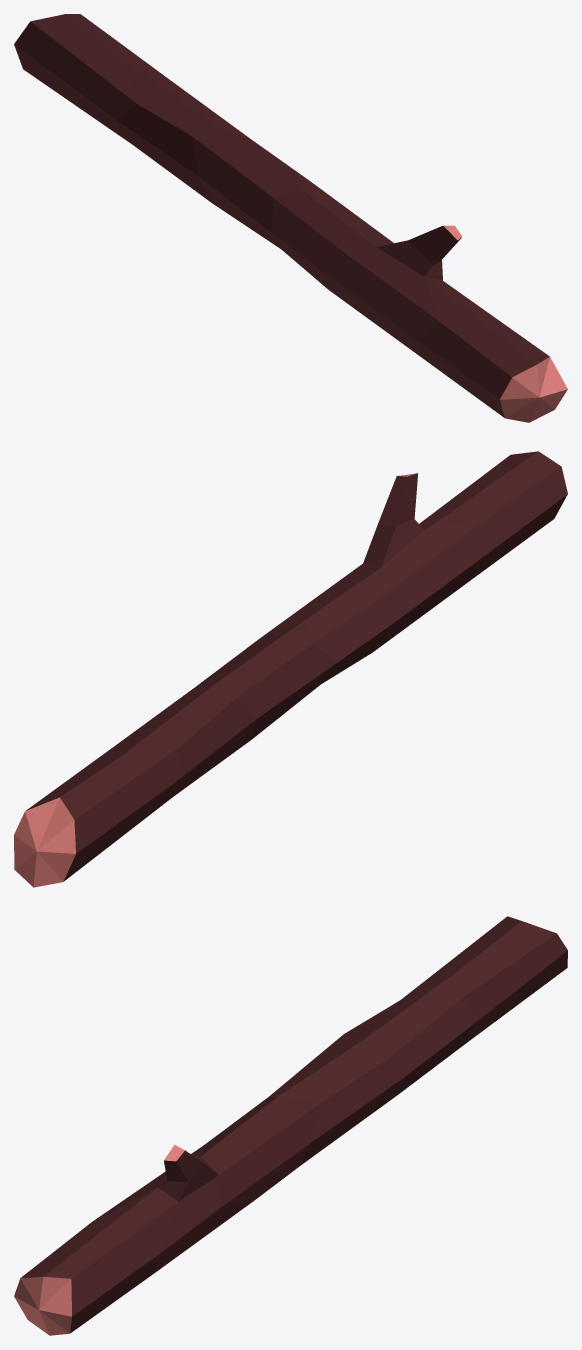
File: stick.glb
The picture shows the model from 3 angles, top to bottom: view 1: azimuth 30°, elevation 25°; view 2: azimuth 150°, elevation 25°; view 3: azimuth 330°, elevation 25°; orthographic projection.
Visible parts, largest first — view 1: Cylinder; view 2: Cylinder; view 3: Cylinder.
Boxes of the visible parts, x1,y1,x2,y2 form: Cylinder: [14, 14, 567, 422]; Cylinder: [14, 451, 567, 887]; Cylinder: [14, 916, 567, 1335].
Size of the model in its own units: 0.0734 by 0.119 by 0.9096.
